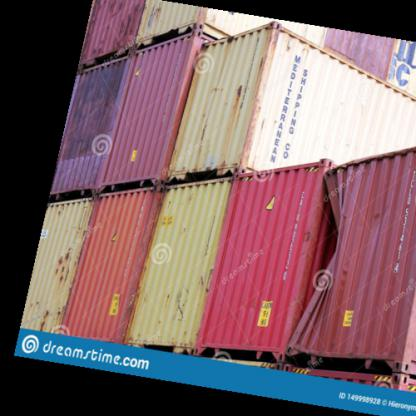Damage: (288, 196, 358, 312)
